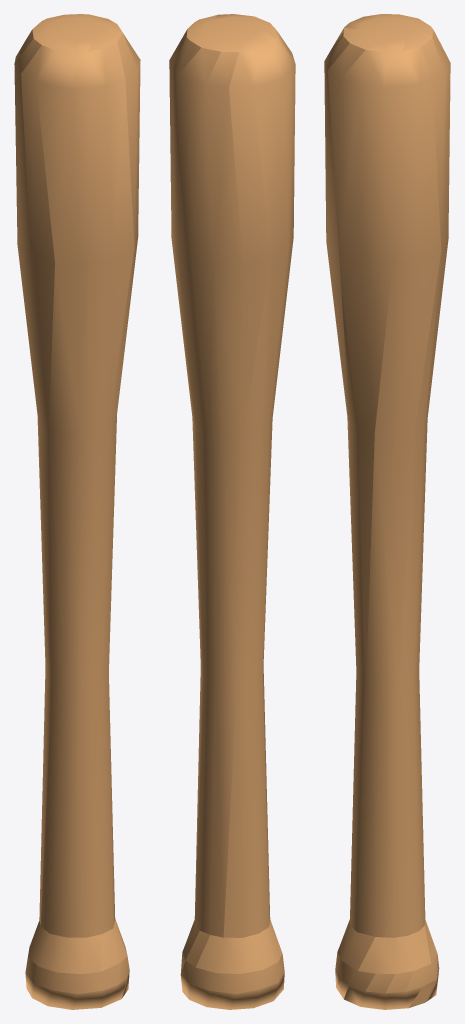
Rendered from baseballbatprop.glb.
The picture shows the model from 3 angles, left to right: view 1: azimuth 90°, elevation 25°; view 2: azimuth 150°, elevation 25°; view 3: azimuth 330°, elevation 25°; orthographic projection.
Parts seen in each view (by area): view 1: Cylinder; view 2: Cylinder; view 3: Cylinder.
Part boxes in pixels (x1,y1,x2,y2): Cylinder: [14, 14, 140, 1009]; Cylinder: [169, 14, 295, 1009]; Cylinder: [324, 14, 450, 1009].
Size of the model in its own units: 1.12 by 9.4 by 1.12.
